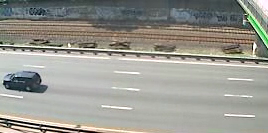car: (2, 69, 45, 93)
